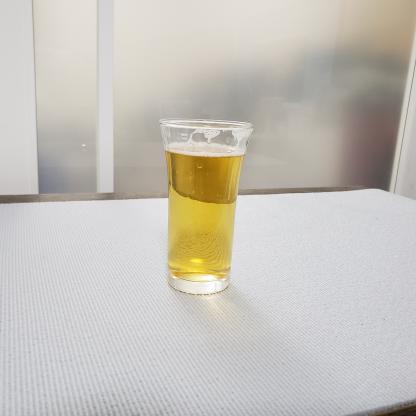glass: (155, 108, 268, 302)
